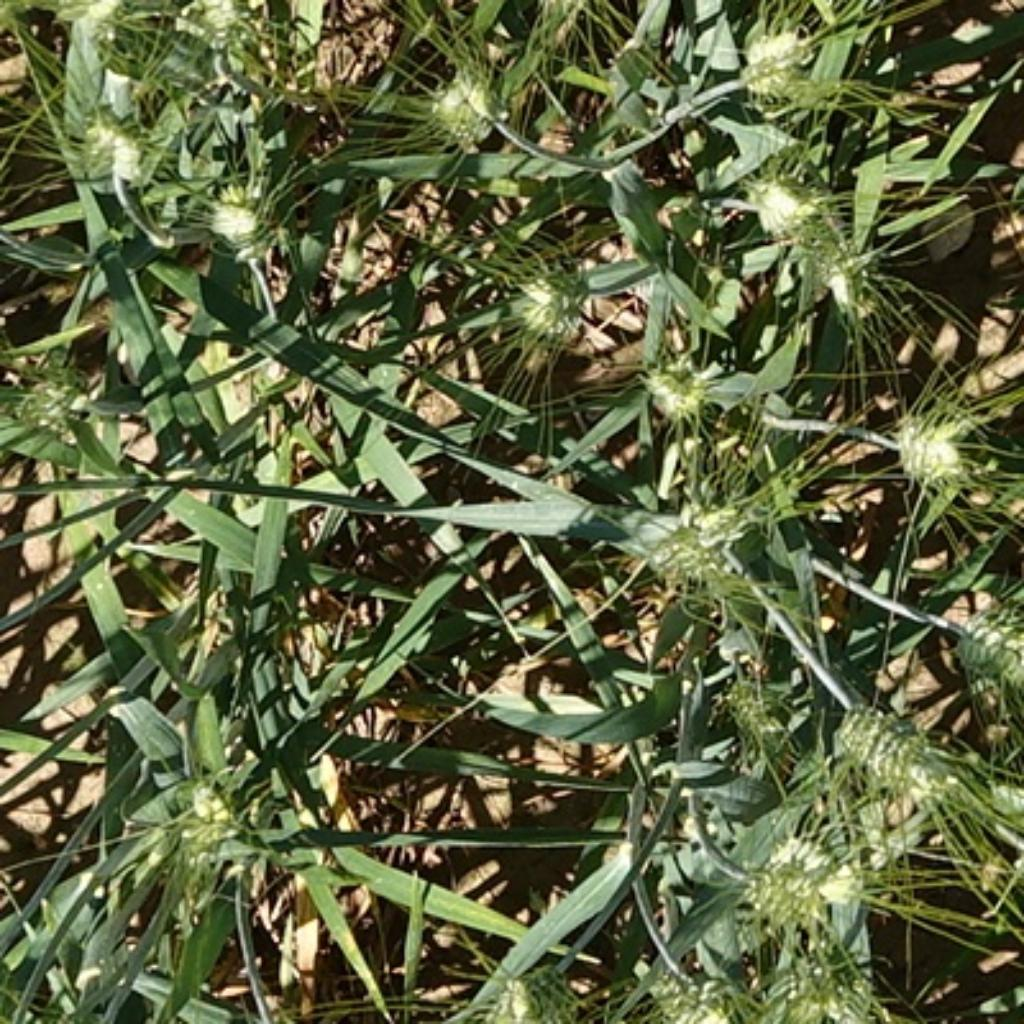0-0: (611, 465, 775, 593), (125, 752, 261, 903), (829, 693, 975, 819), (768, 171, 888, 309), (729, 819, 852, 929), (750, 934, 885, 1024), (445, 944, 583, 1024), (7, 337, 110, 440), (947, 581, 1024, 709), (627, 947, 750, 1024), (739, 153, 842, 243), (504, 243, 596, 340), (56, 99, 156, 184), (726, 9, 821, 98), (151, 0, 258, 76), (883, 399, 975, 486), (421, 55, 509, 143), (714, 660, 793, 747), (202, 168, 279, 256), (637, 340, 716, 417), (33, 0, 133, 40)
